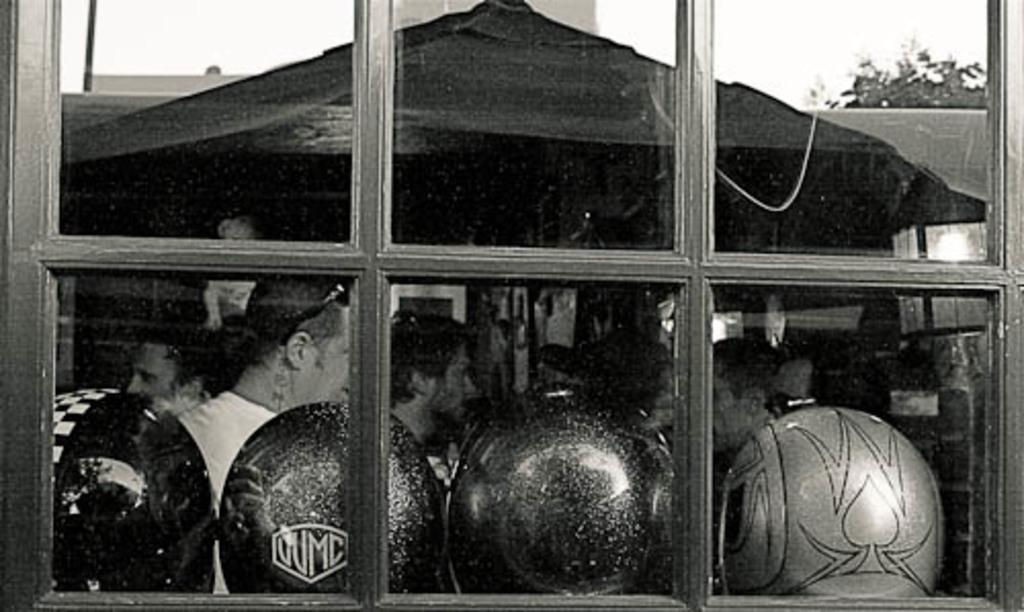helmet: (449, 383, 679, 595), (217, 400, 449, 595), (3, 388, 217, 595), (717, 407, 945, 599)
nohelmet: (236, 273, 351, 414)
